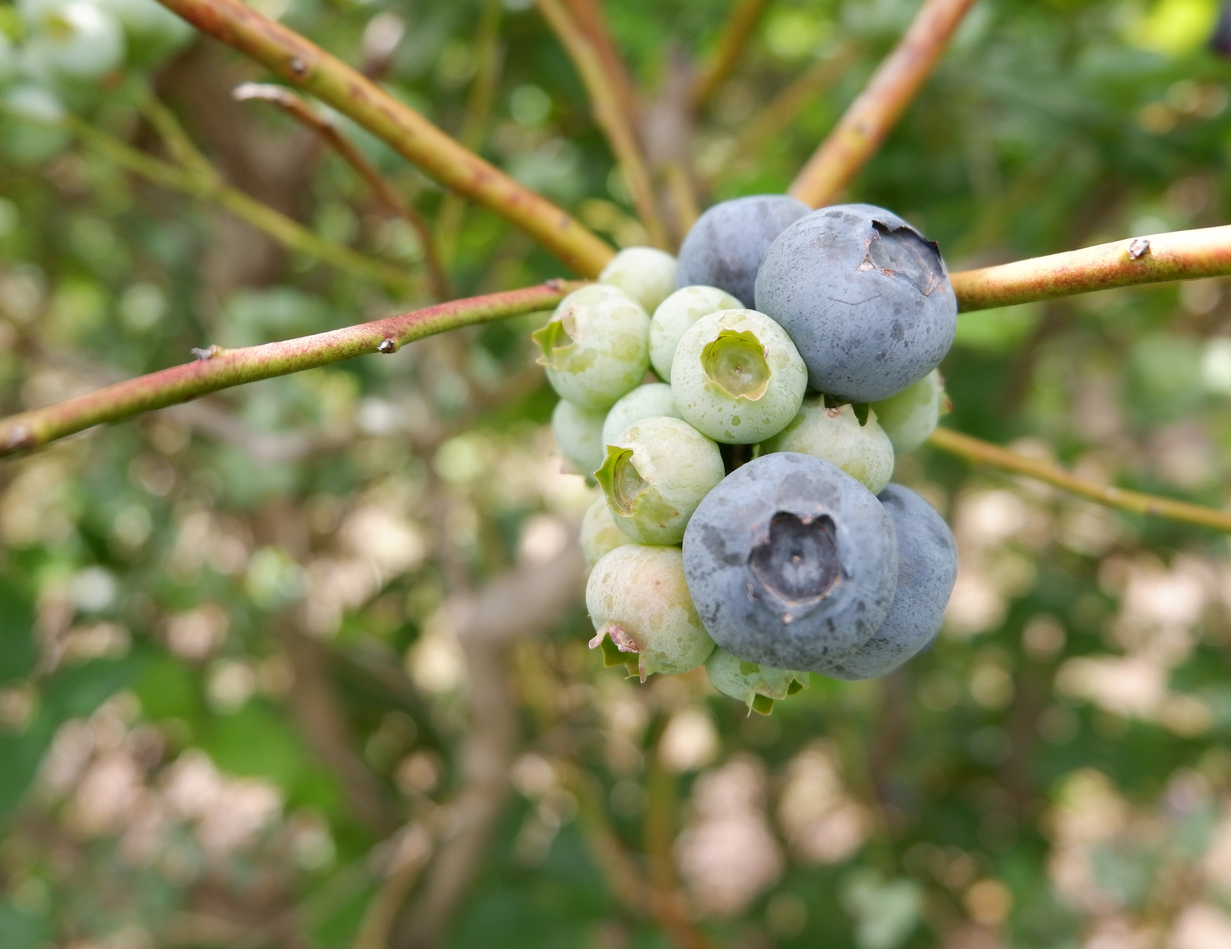Immature: (674, 311, 805, 441), (588, 547, 712, 681), (595, 418, 723, 541), (536, 287, 649, 407), (761, 393, 893, 491), (651, 287, 741, 379), (708, 647, 810, 711), (875, 371, 947, 453), (577, 491, 638, 577), (602, 384, 680, 447), (600, 249, 677, 312), (553, 401, 606, 472)
Mature: (679, 453, 900, 673), (754, 207, 956, 404), (822, 484, 957, 682), (680, 195, 813, 306)
